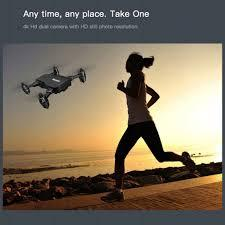drone: (15, 60, 93, 108)
